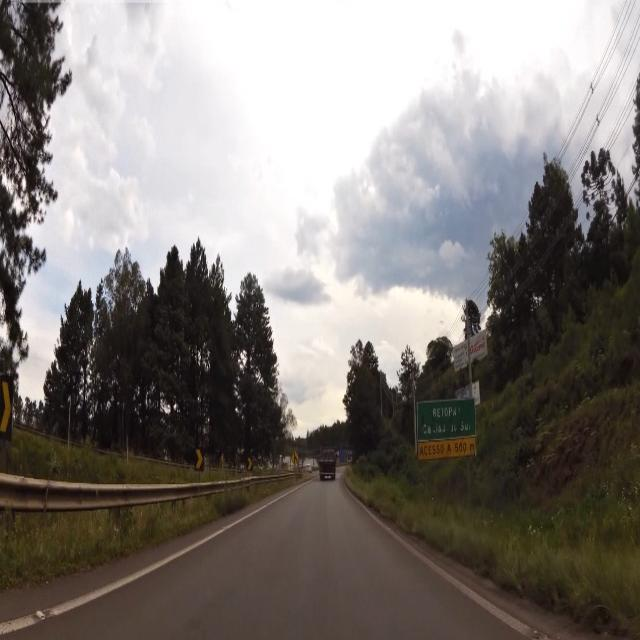Del: (0, 379, 13, 435), (194, 448, 204, 472)
I-4: (418, 396, 477, 436)
